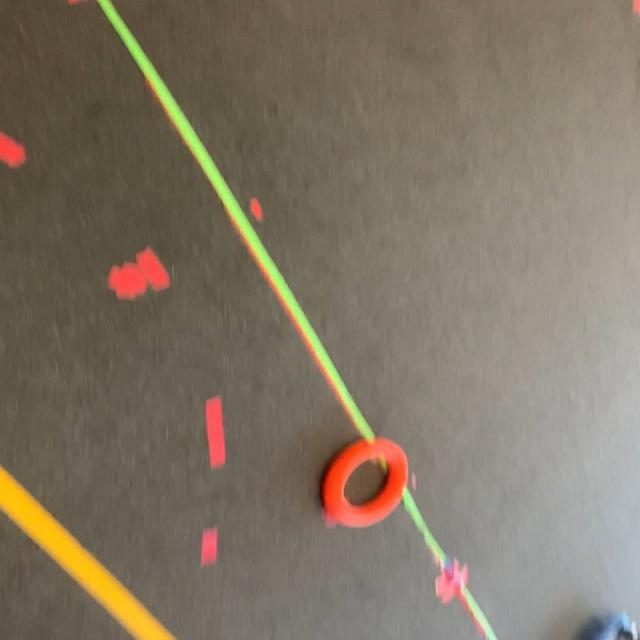notes: (324, 439, 408, 526)
